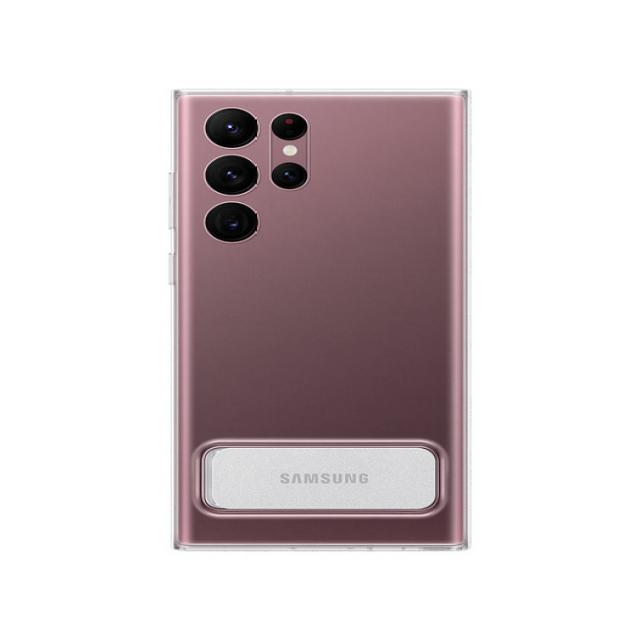phone: (166, 88, 471, 553)
